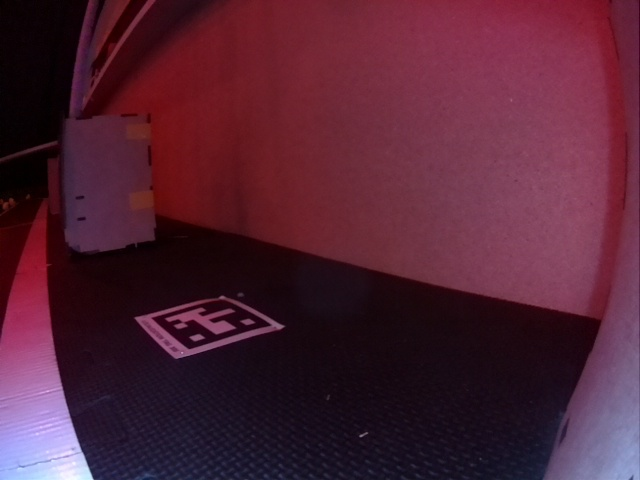QR code: (146, 299, 276, 354)
